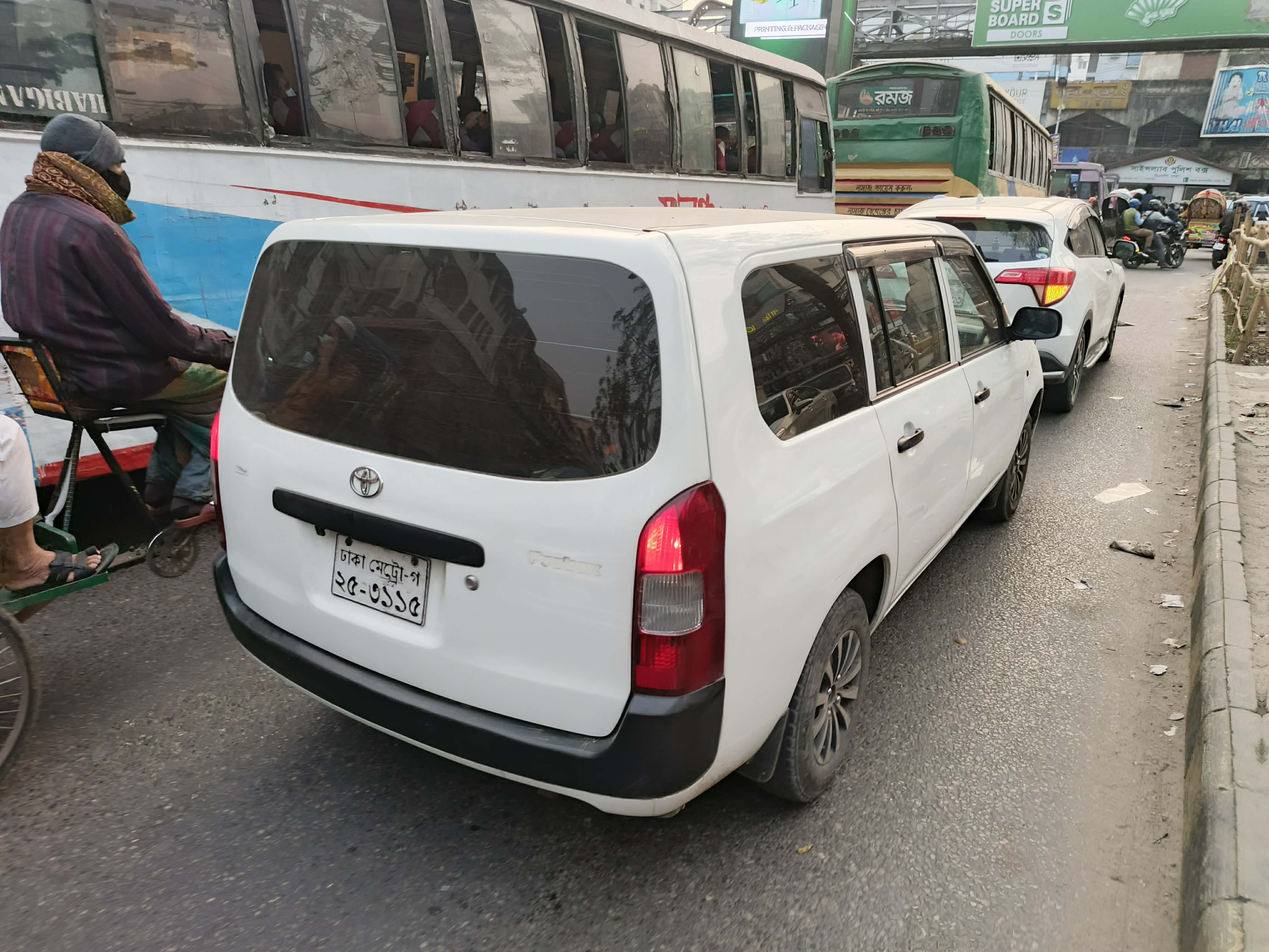Bikes: (1112, 189, 1187, 273)
Bus: (9, 0, 1065, 195)
auto-ricksaw: (3, 111, 252, 643), (1190, 192, 1237, 273), (1098, 149, 1142, 227)
private car: (231, 175, 1117, 869)
